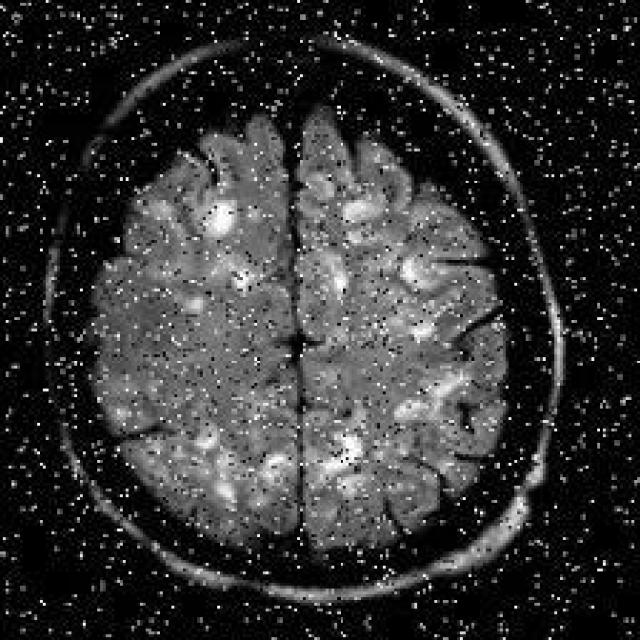no_tumor: (39, 28, 571, 610)
